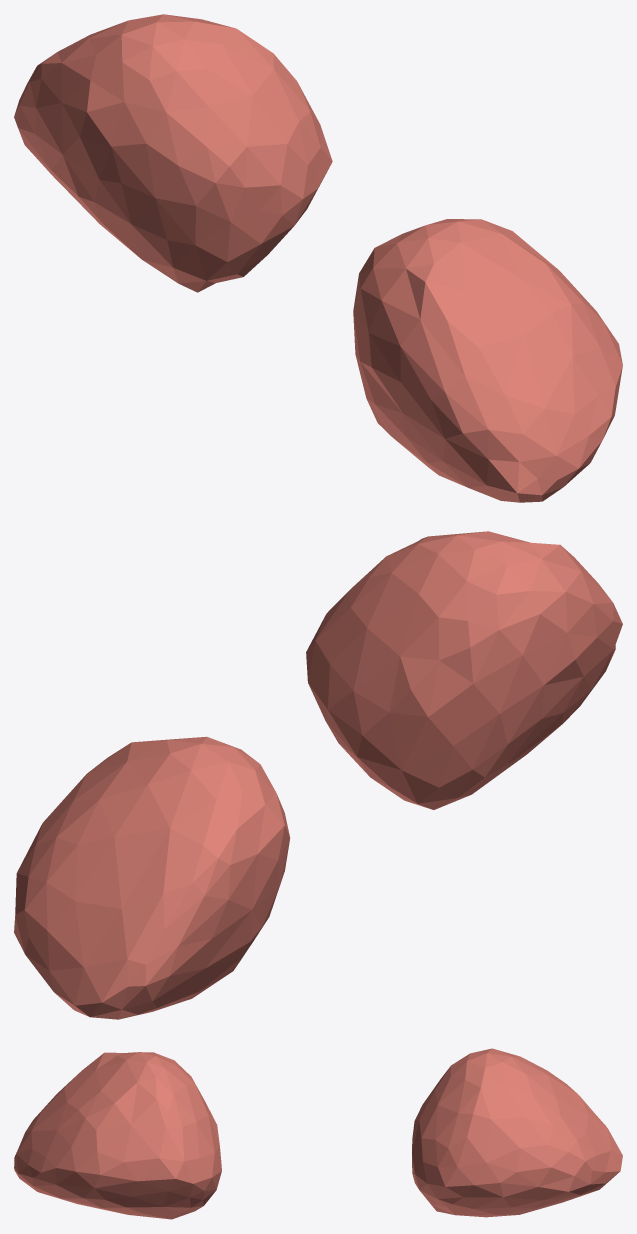
3 views of the same model, one above another, from view 1: azimuth 30°, elevation 25°; view 2: azimuth 150°, elevation 25°; view 3: azimuth 270°, elevation 25° (orthographic). The views are drawn at different scales.
Parts seen in each view (by area): view 1: 1004.obj; view 2: 1004.obj; view 3: 1004.obj.
Part boxes in pixels (x1,y1,x2,y2): 1004.obj: (14,14,622,502); 1004.obj: (14,531,622,1019); 1004.obj: (14,1048,622,1219).
Bounding box in the file's own units: 491 × 517 × 1832.
